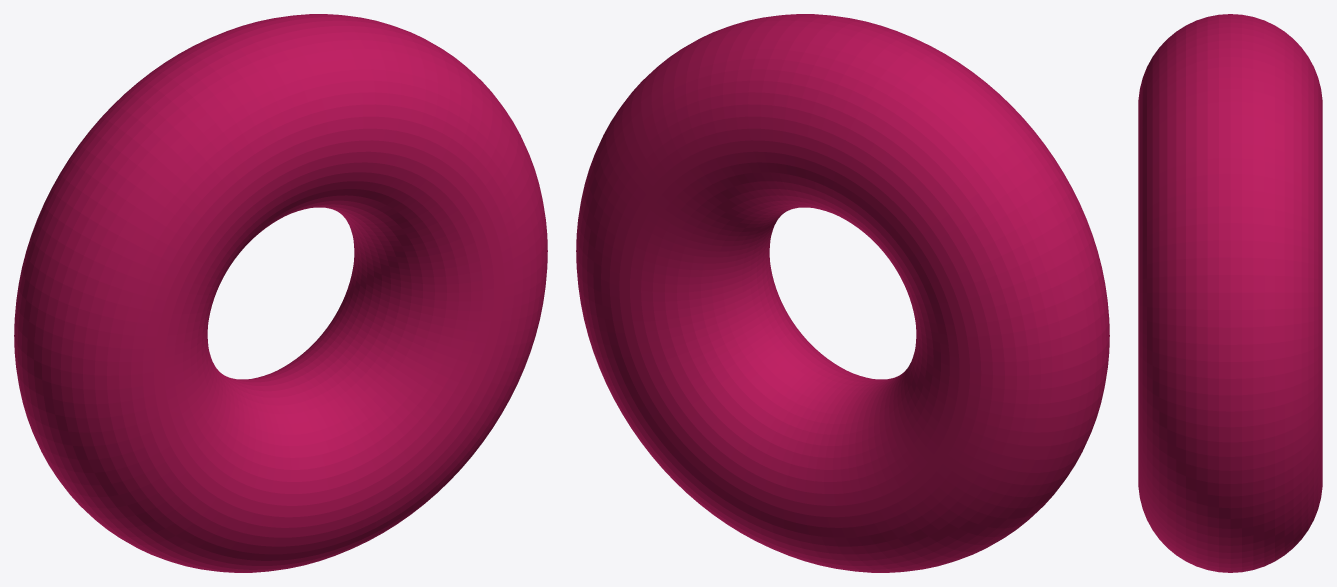
3 views of the same model, side by side, from view 1: azimuth 30°, elevation 25°; view 2: azimuth 150°, elevation 25°; view 3: azimuth 270°, elevation 25° (orthographic). The views are drawn at different scales.
Visible parts, largest first — view 1: world; view 2: world; view 3: world.
Part boxes in pixels (box(x1,y1,x2,y2)): world: box(14, 14, 547, 572); world: box(576, 14, 1109, 572); world: box(1138, 14, 1322, 572).
Size of the model in its own units: 27.87 by 27.87 by 9.18.
